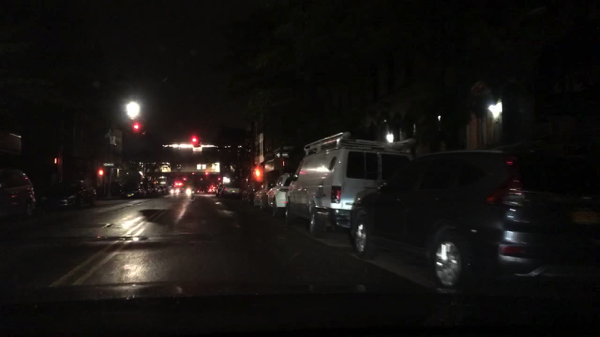car: (350, 150, 598, 289), (283, 132, 417, 237), (41, 178, 96, 212), (0, 169, 36, 217), (266, 173, 294, 216), (253, 183, 274, 210), (120, 184, 145, 199), (220, 185, 240, 198), (242, 189, 254, 206), (216, 184, 229, 198), (153, 187, 162, 196), (160, 186, 169, 194), (146, 187, 154, 196), (170, 188, 182, 194), (207, 188, 215, 195), (197, 189, 206, 193)
traffic light: (192, 135, 198, 146), (133, 123, 140, 132), (255, 169, 261, 178), (55, 158, 61, 165), (99, 169, 104, 176), (183, 177, 187, 181), (218, 176, 221, 181), (206, 172, 209, 176), (192, 172, 195, 176)
traffic sign: (275, 154, 289, 158), (103, 163, 114, 167)
